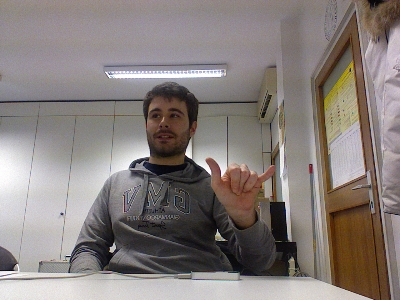六六六: (203, 155, 277, 214)
